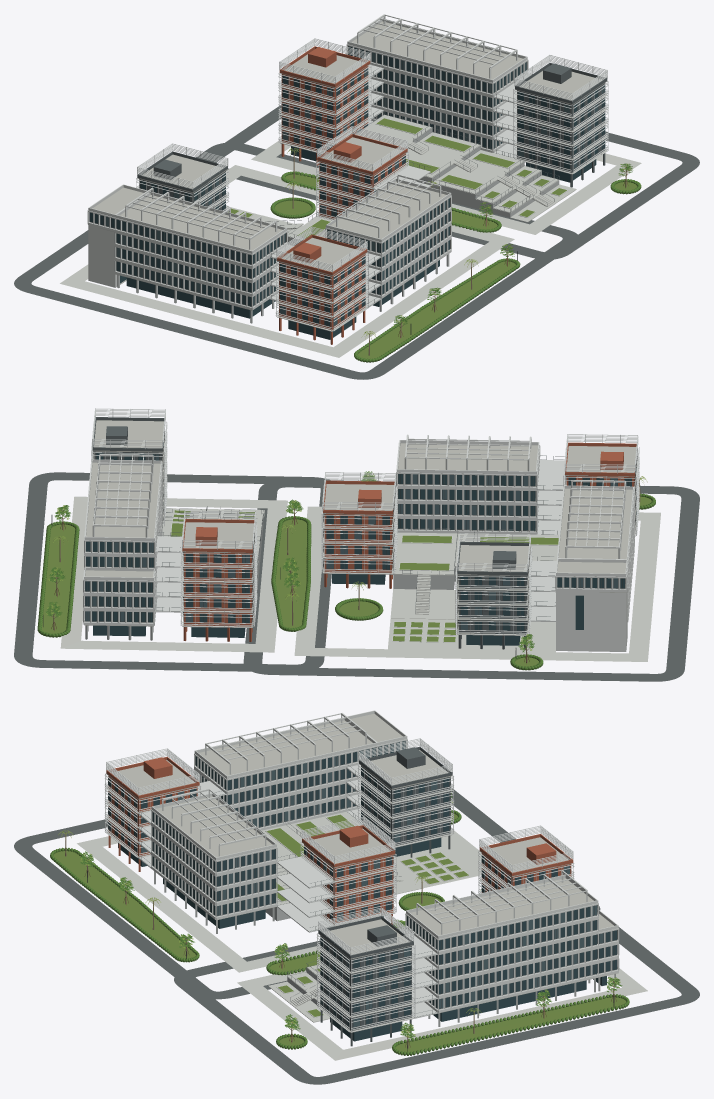
File: bupt-lod1.glb
3 renders of one model, top to bottom at view 1: azimuth 30°, elevation 25°; view 2: azimuth 150°, elevation 25°; view 3: azimuth 270°, elevation 25°, orthographic. The views are drawn at different scales.
Visible parts, largest first — view 1: horizontal silver sun louvers | silver louvers.001, floor plates and roof planes | roof.001, white rectangular window frames | ivory metal.001, recessed blue gray windows | blue glazing.001, internal drive and court paving | dark paving.001, brick red end tower panels | red ceramic.001, site perimeter paving | pale paving.001, charcoal end tower panels | charcoal cladding.001, panel joints and window mullions | window shadow.001, stepped garden paving | pale paving.001, open white roof pergolas | ivory metal.001, connected planted lawns | lawn.001 (+10 smaller); view 2: floor plates and roof planes | roof.001, internal drive and court paving | dark paving.001, horizontal silver sun louvers | silver louvers.001, site perimeter paving | pale paving.001, white rectangular window frames | ivory metal.001, recessed blue gray windows | blue glazing.001, brick red end tower panels | red ceramic.001, panel joints and window mullions | window shadow.001, connected planted lawns | lawn.001, open white roof pergolas | ivory metal.001, open connector floor decks | ivory metal.001, charcoal end tower panels | charcoal cladding.001 (+14 smaller); view 3: white rectangular window frames | ivory metal.001, floor plates and roof planes | roof.001, recessed blue gray windows | blue glazing.001, horizontal silver sun louvers | silver louvers.001, internal drive and court paving | dark paving.001, charcoal end tower panels | charcoal cladding.001, site perimeter paving | pale paving.001, brick red end tower panels | red ceramic.001, panel joints and window mullions | window shadow.001, connected planted lawns | lawn.001, open white roof pergolas | ivory metal.001, open connector floor decks | ivory metal.001 (+10 smaller).
Part boxes in pixels (left/top/right/bottom): horizontal silver sun louvers | silver louvers.001: left=136, top=38, right=608, bottom=331; floor plates and roof planes | roof.001: left=92, top=21, right=607, bottom=331; white rectangular window frames | ivory metal.001: left=87, top=18, right=528, bottom=310; recessed blue gray windows | blue glazing.001: left=89, top=46, right=605, bottom=339; internal drive and court paving | dark paving.001: left=14, top=104, right=699, bottom=379; brick red end tower panels | red ceramic.001: left=277, top=46, right=407, bottom=344; site perimeter paving | pale paving.001: left=60, top=139, right=641, bottom=357; charcoal end tower panels | charcoal cladding.001: left=137, top=62, right=607, bottom=210; panel joints and window mullions | window shadow.001: left=89, top=46, right=604, bottom=326; stepped garden paving | pale paving.001: left=288, top=114, right=576, bottom=246; open white roof pergolas | ivory metal.001: left=125, top=14, right=517, bottom=249; connected planted lawns | lawn.001: left=274, top=174, right=637, bottom=358; floor plates and roof planes | roof.001: left=84, top=420, right=637, bottom=635; internal drive and court paving | dark paving.001: left=14, top=472, right=699, bottom=681; horizontal silver sun louvers | silver louvers.001: left=91, top=408, right=639, bottom=635; site perimeter paving | pale paving.001: left=60, top=496, right=660, bottom=661; white rectangular window frames | ivory metal.001: left=83, top=440, right=634, bottom=626; recessed blue gray windows | blue glazing.001: left=85, top=442, right=636, bottom=645; brick red end tower panels | red ceramic.001: left=182, top=442, right=636, bottom=641; panel joints and window mullions | window shadow.001: left=85, top=431, right=637, bottom=630; connected planted lawns | lawn.001: left=42, top=496, right=651, bottom=666; open white roof pergolas | ivory metal.001: left=92, top=434, right=626, bottom=558; open connector floor decks | ivory metal.001: left=156, top=460, right=565, bottom=621; charcoal end tower panels | charcoal cladding.001: left=92, top=417, right=529, bottom=649; white rectangular window frames | ivory metal.001: left=151, top=710, right=619, bottom=1012; floor plates and roof planes | roof.001: left=106, top=713, right=618, bottom=1032; recessed blue gray windows | blue glazing.001: left=108, top=741, right=616, bottom=1041; horizontal silver sun louvers | silver louvers.001: left=105, top=738, right=574, bottom=1032; internal drive and court paving | dark paving.001: left=14, top=789, right=699, bottom=1084; charcoal end tower panels | charcoal cladding.001: left=318, top=746, right=452, bottom=1046; site perimeter paving | pale paving.001: left=77, top=828, right=647, bottom=1060; brick red end tower panels | red ceramic.001: left=106, top=756, right=573, bottom=924; panel joints and window mullions | window shadow.001: left=108, top=741, right=617, bottom=1027; connected planted lawns | lawn.001: left=53, top=813, right=626, bottom=1052; open white roof pergolas | ivory metal.001: left=162, top=713, right=587, bottom=934; open connector floor decks | ivory metal.001: left=138, top=764, right=438, bottom=1018.
Size of the model in its own units: 188 by 27.16 by 165.
